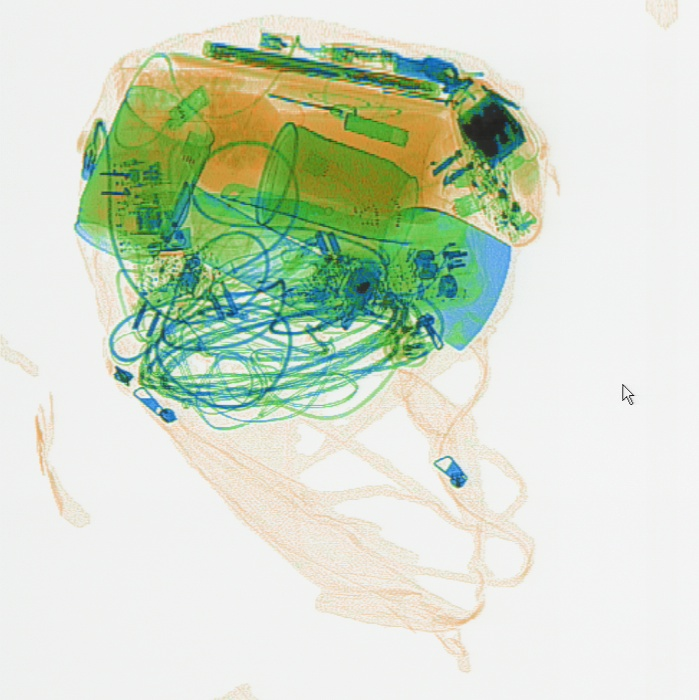pressure: (160, 186, 370, 330)
